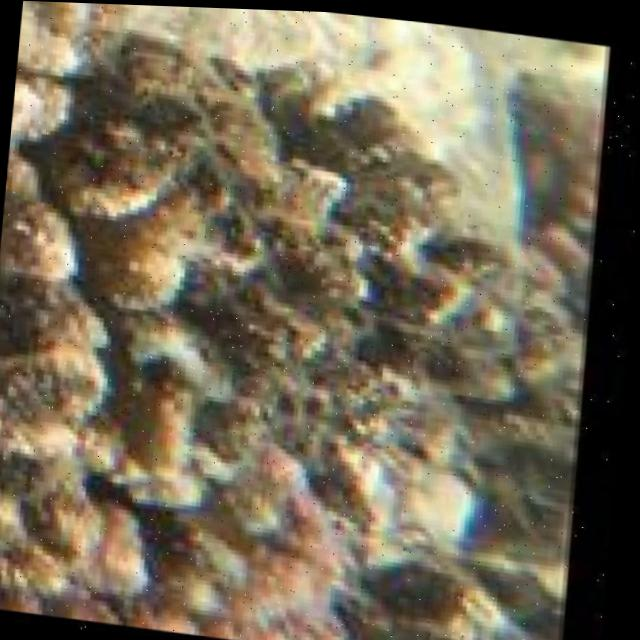Dead Coral: (0, 28, 526, 526)
Healthy Coral: (0, 491, 389, 640)
